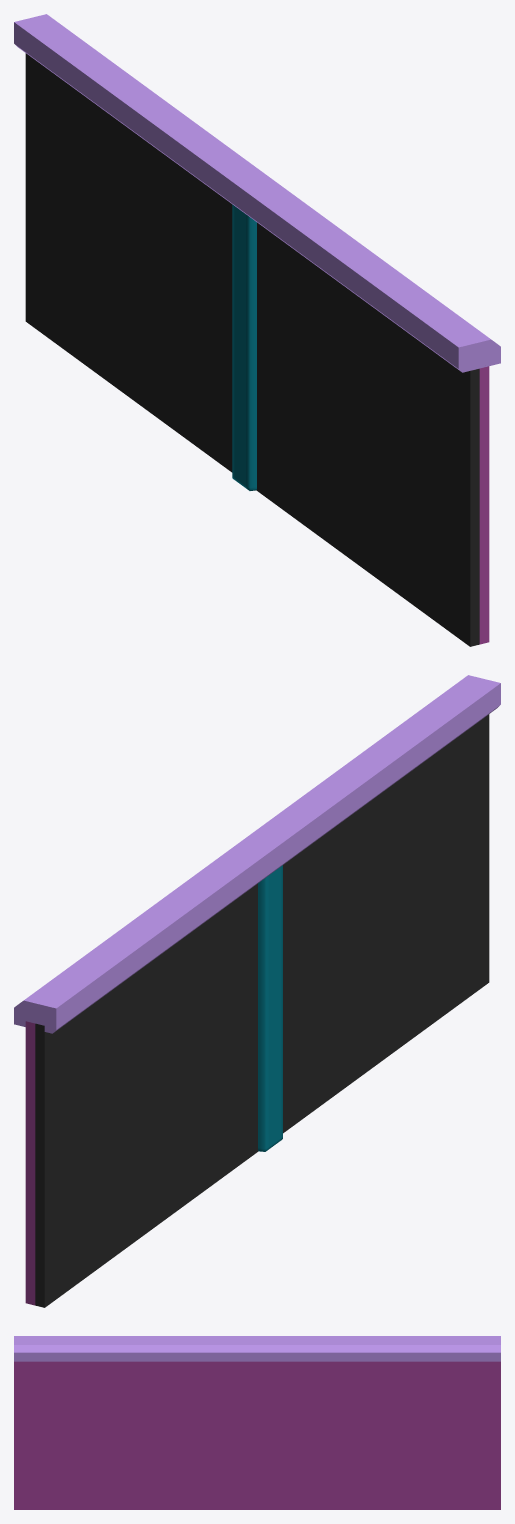
Rendered from WallType2.FBX.
The picture shows the model from 3 angles, top to bottom: view 1: azimuth 30°, elevation 25°; view 2: azimuth 150°, elevation 25°; view 3: azimuth 270°, elevation 25°; orthographic projection. The views are drawn at different scales.
Parts seen in each view (by area): view 1: Wall.int, Roof ornament, Wall.detail, Wall.out; view 2: Wall.int, Roof ornament, Wall.detail, Wall.out; view 3: Wall.out, Roof ornament.
Boxes of the visible parts, x1,y1,x2,y2 form: Wall.int: (25, 53, 479, 646); Roof ornament: (14, 14, 500, 372); Wall.detail: (232, 204, 256, 490); Wall.out: (479, 366, 489, 644); Wall.int: (35, 714, 489, 1307); Roof ornament: (14, 675, 500, 1033); Wall.detail: (258, 865, 282, 1151); Wall.out: (25, 1021, 35, 1305); Wall.out: (14, 1361, 500, 1509); Roof ornament: (14, 1336, 500, 1361).
Bounding box in the file's own units: 43.31 × 295 × 787.
